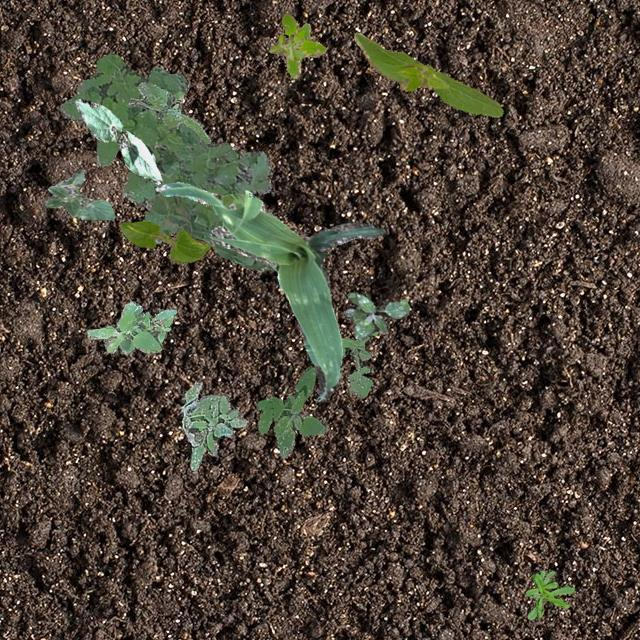crop: (155, 180, 383, 400), (354, 31, 502, 116), (74, 98, 160, 184), (118, 220, 210, 262), (44, 168, 114, 220)
weed: (59, 52, 274, 270), (256, 366, 326, 456), (180, 382, 248, 469), (127, 81, 209, 142), (86, 301, 176, 354), (268, 12, 326, 78), (344, 292, 409, 340), (340, 330, 378, 398), (524, 568, 574, 618)
